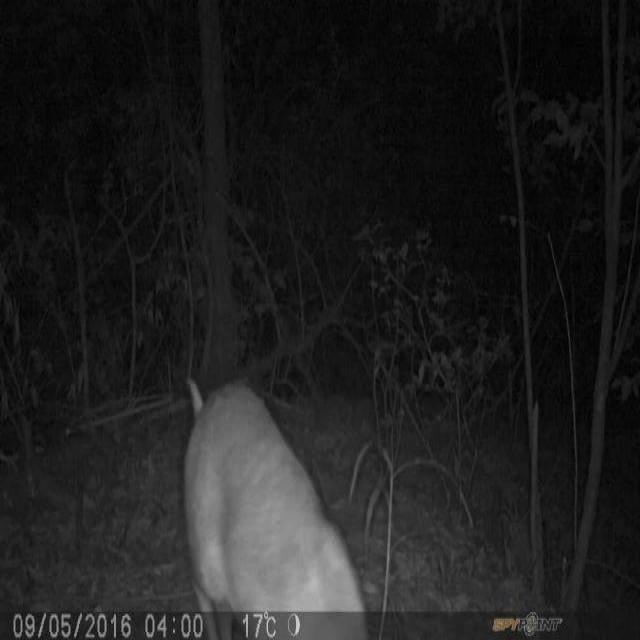deer: (181, 375, 366, 608)
